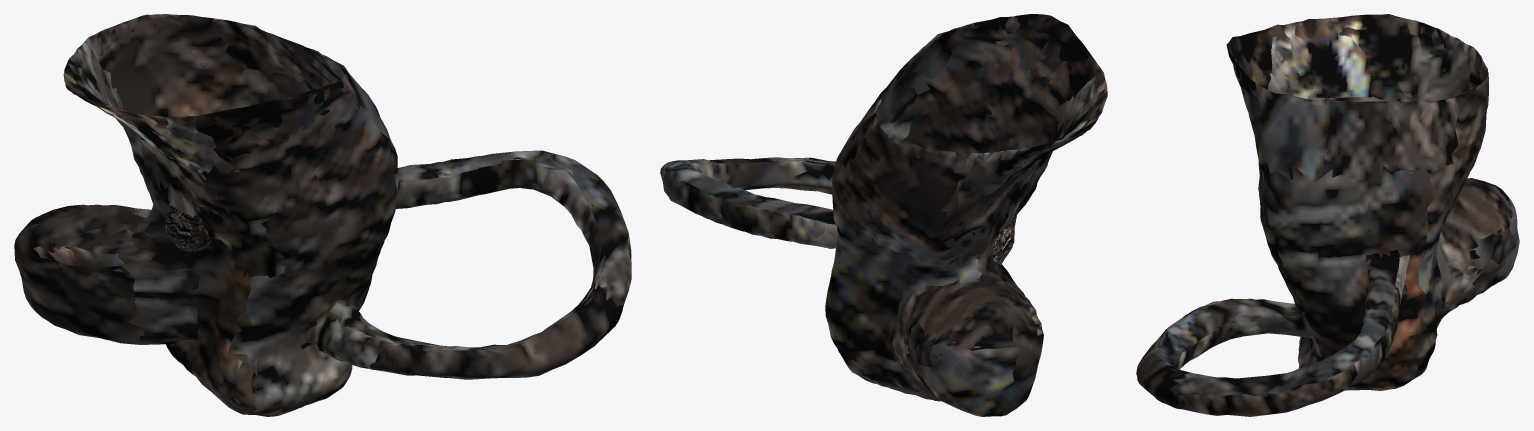
The model's file is CaveTest_thick.fbx.
3 renders of one model, left to right at view 1: azimuth 30°, elevation 25°; view 2: azimuth 150°, elevation 25°; view 3: azimuth 270°, elevation 25°, orthographic. The views are drawn at different scales.
Visible parts, largest first — view 1: Cube, Rock; view 2: Cube, Rock; view 3: Cube.
Part boxes in pixels (box(x1,y1,x2,y2)): Cube: box(14, 14, 631, 416); Rock: box(165, 207, 210, 251); Cube: box(660, 14, 1107, 416); Rock: box(992, 211, 1017, 264); Cube: box(1136, 14, 1519, 416).
Size of the model in its own units: 17504 by 12464 by 13593.
2 materials, 2 textured.
